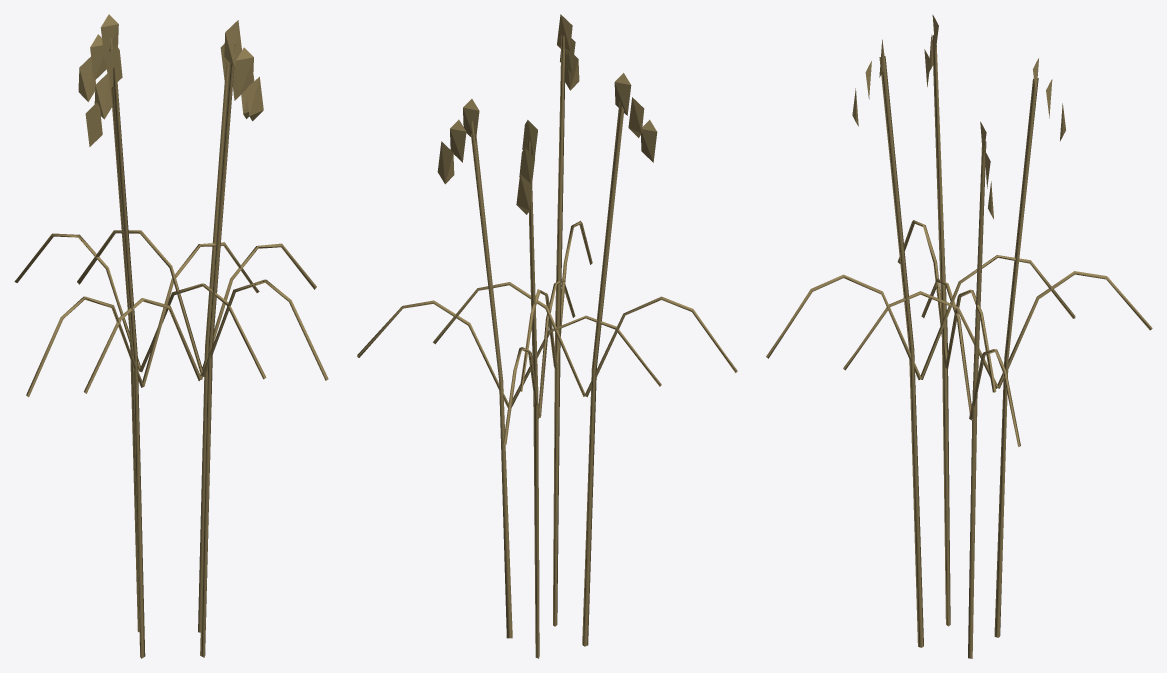
Rendered from field_stalks.glb.
3 renders of one model, left to right at view 1: azimuth 30°, elevation 25°; view 2: azimuth 150°, elevation 25°; view 3: azimuth 270°, elevation 25°, orthographic. The views are drawn at different scales.
Parts seen in each view (by area): view 1: FieldStalks; view 2: FieldStalks; view 3: FieldStalks.
Boxes of the visible parts, x1,y1,x2,y2 form: FieldStalks: [14, 14, 328, 658]; FieldStalks: [357, 14, 737, 658]; FieldStalks: [766, 14, 1152, 658].
Size of the model in its own units: 0.3362 by 0.5903 by 0.3359.
